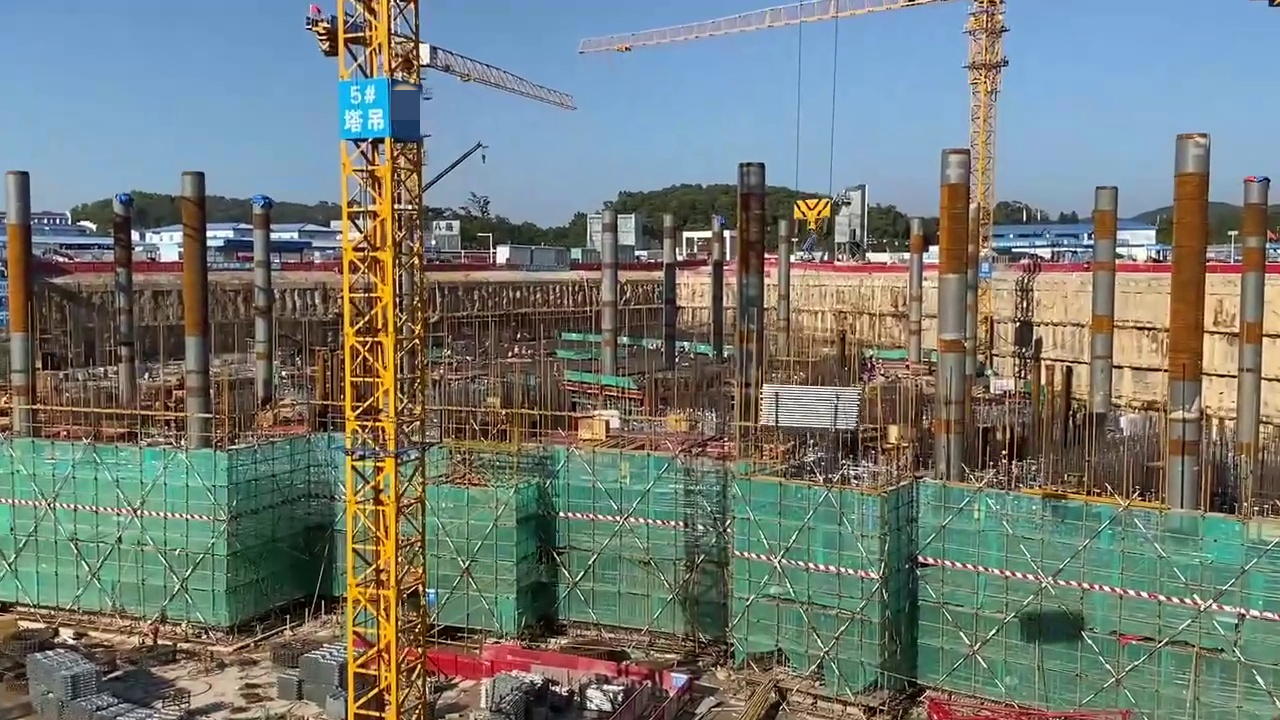fence: (483, 642, 630, 682), (426, 645, 485, 684)
hook: (792, 196, 834, 226)
scaffold: (24, 648, 94, 720), (758, 382, 865, 426), (295, 645, 348, 709), (84, 684, 153, 720)
